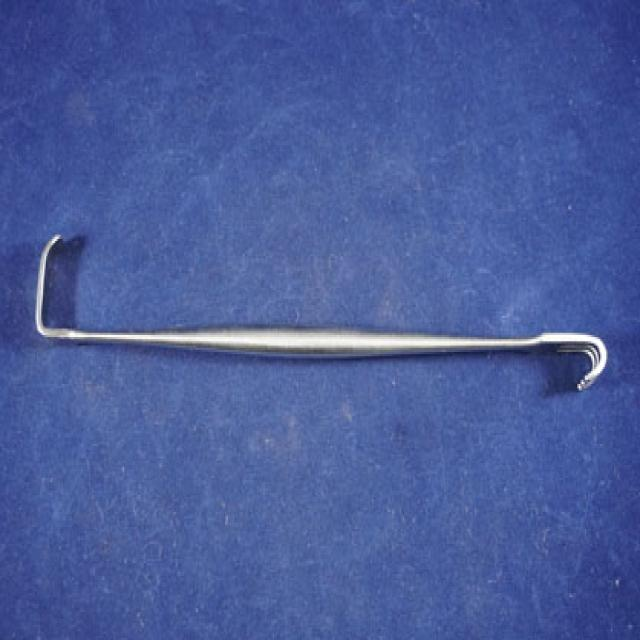Senn Retractor: (28, 228, 610, 406)
